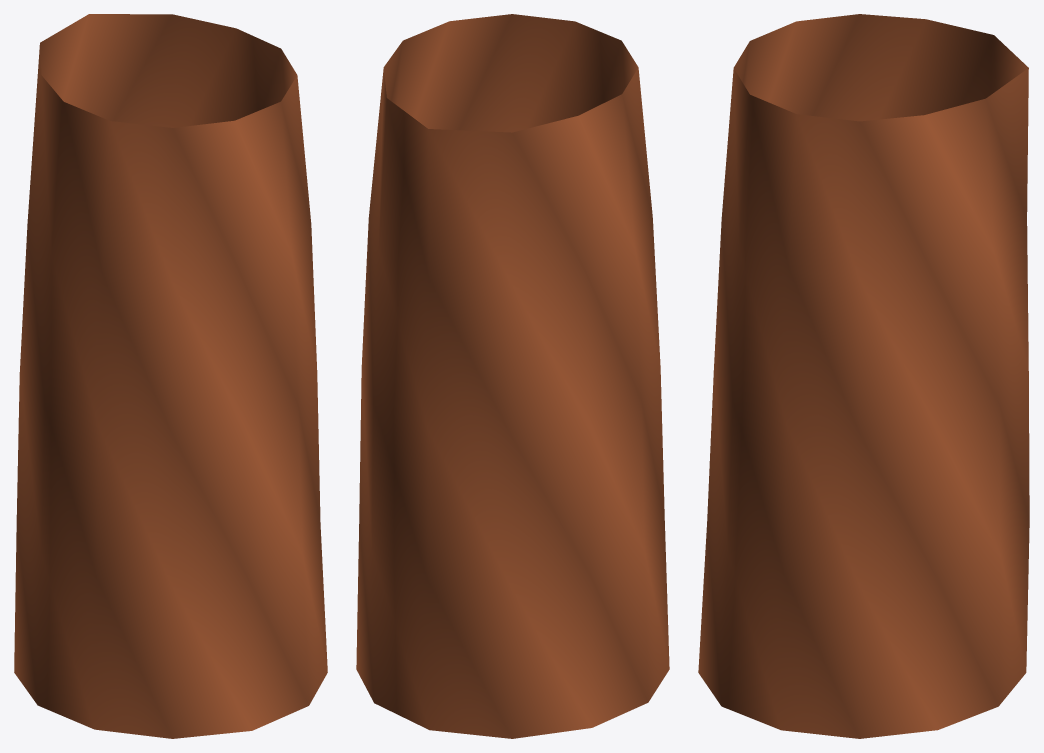
Rendered from copper_armor_greave.L.glb.
The picture shows the model from 3 angles, left to right: view 1: azimuth 30°, elevation 25°; view 2: azimuth 150°, elevation 25°; view 3: azimuth 270°, elevation 25°; orthographic projection.
Visible parts, largest first — view 1: copper_armor_greave.L; view 2: copper_armor_greave.L; view 3: copper_armor_greave.L.
Part boxes in pixels (x1,y1,x2,y2): copper_armor_greave.L: [14, 14, 327, 738]; copper_armor_greave.L: [356, 14, 669, 738]; copper_armor_greave.L: [698, 14, 1029, 738].
Bounding box in the file's own units: 0.1774 × 0.3767 × 0.187.
